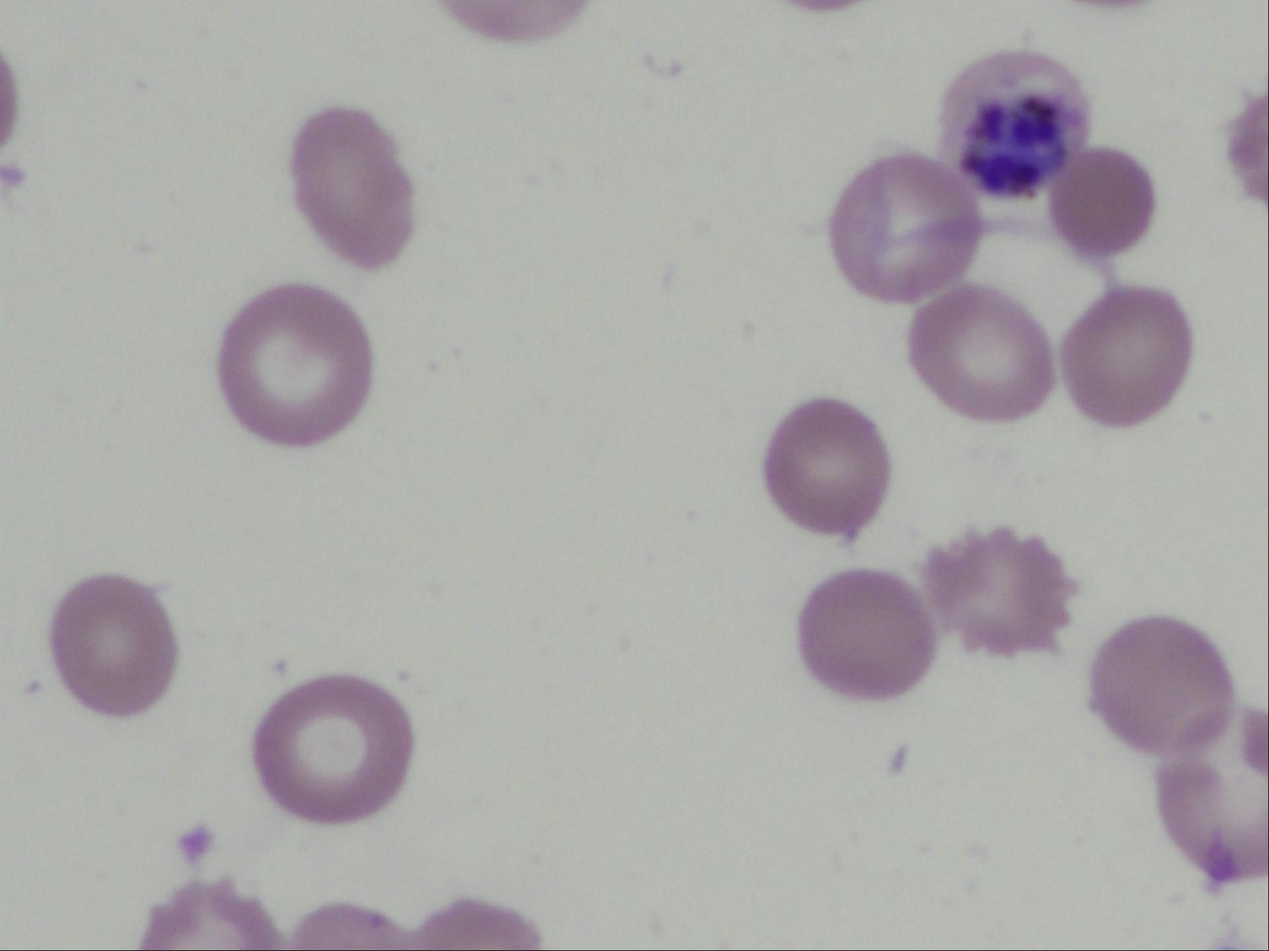Infected: (934, 47, 1094, 204)
Uninfected: (223, 287, 380, 446), (256, 675, 414, 830), (1154, 701, 1269, 893), (910, 281, 1059, 428), (835, 159, 983, 304), (925, 525, 1077, 658), (295, 102, 411, 274), (1088, 618, 1238, 750), (795, 569, 934, 705), (57, 567, 184, 715), (1071, 283, 1193, 427), (767, 393, 893, 531), (1053, 144, 1156, 261)
